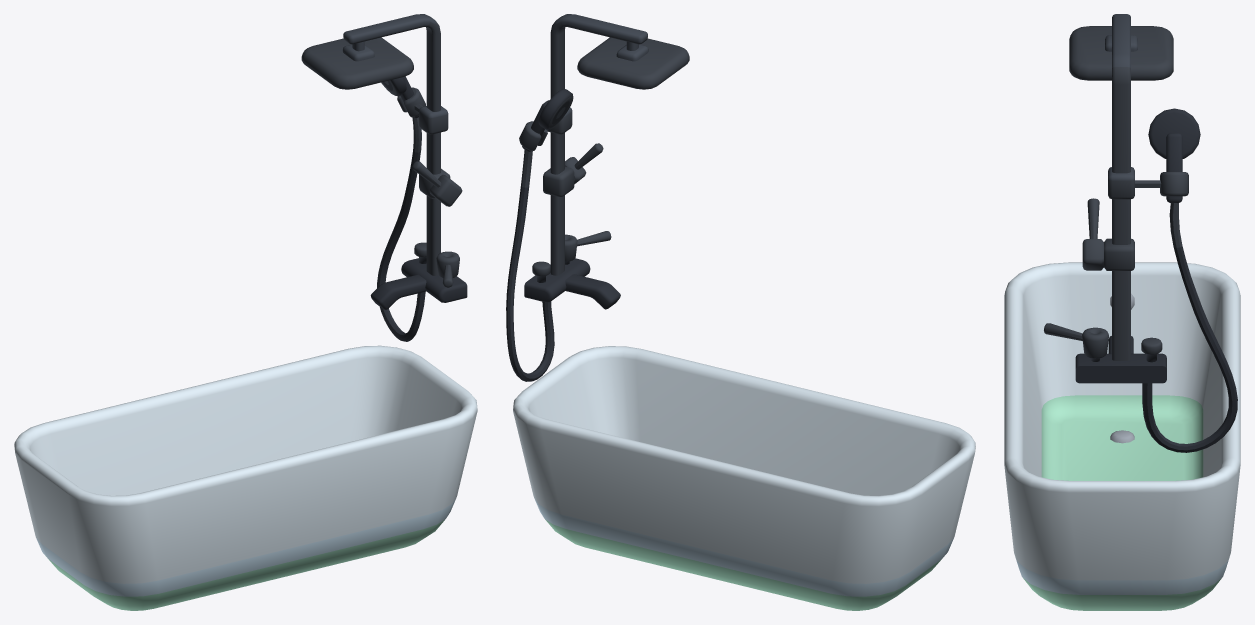
File: banheira_ducha_pacote.glb
The picture shows the model from 3 angles, left to right: view 1: azimuth 30°, elevation 25°; view 2: azimuth 150°, elevation 25°; view 3: azimuth 270°, elevation 25°; orthographic projection. The views are drawn at different scales.
Parts seen in each view (by area): view 1: banheira_ducha_pacote; view 2: banheira_ducha_pacote; view 3: banheira_ducha_pacote.
Part boxes in pixels (x1=…): banheira_ducha_pacote: x1=14, y1=14, x2=477, y2=610; banheira_ducha_pacote: x1=506, y1=14, x2=975, y2=610; banheira_ducha_pacote: x1=1004, y1=14, x2=1240, y2=610.
Bounding box in the file's own units: 1.79 × 2.14 × 0.7947.
1 material, 1 textured.
